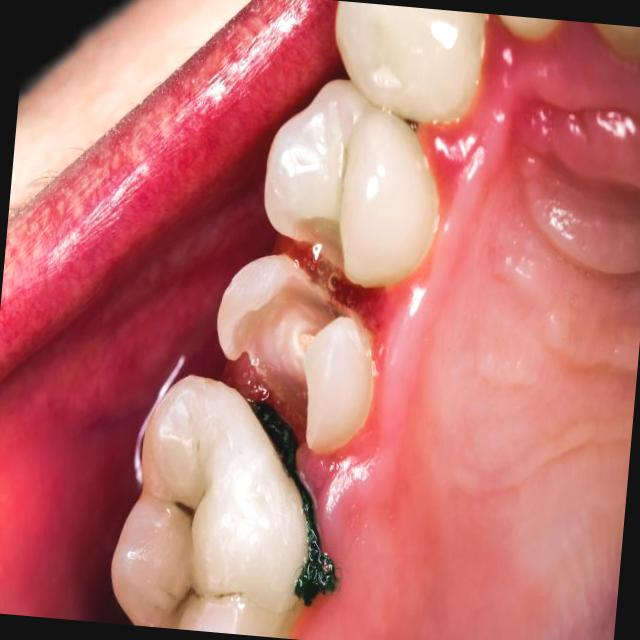caries: (114, 369, 353, 640), (208, 251, 387, 446)
